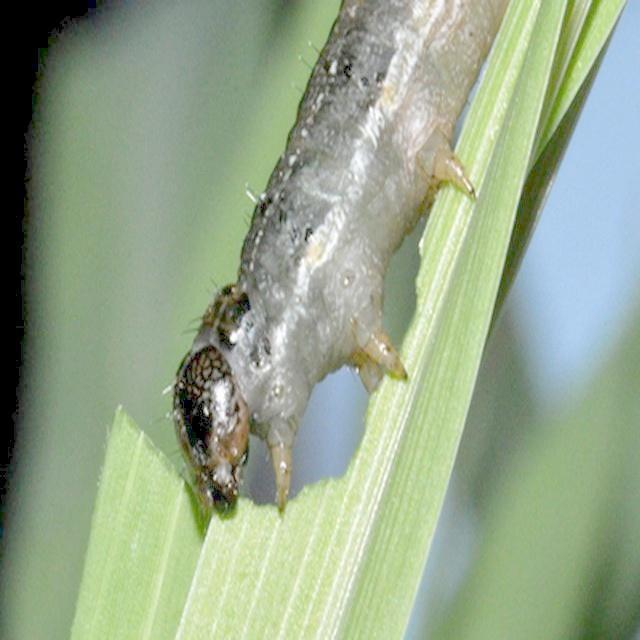gusano_cogollero: (175, 1, 487, 512)
